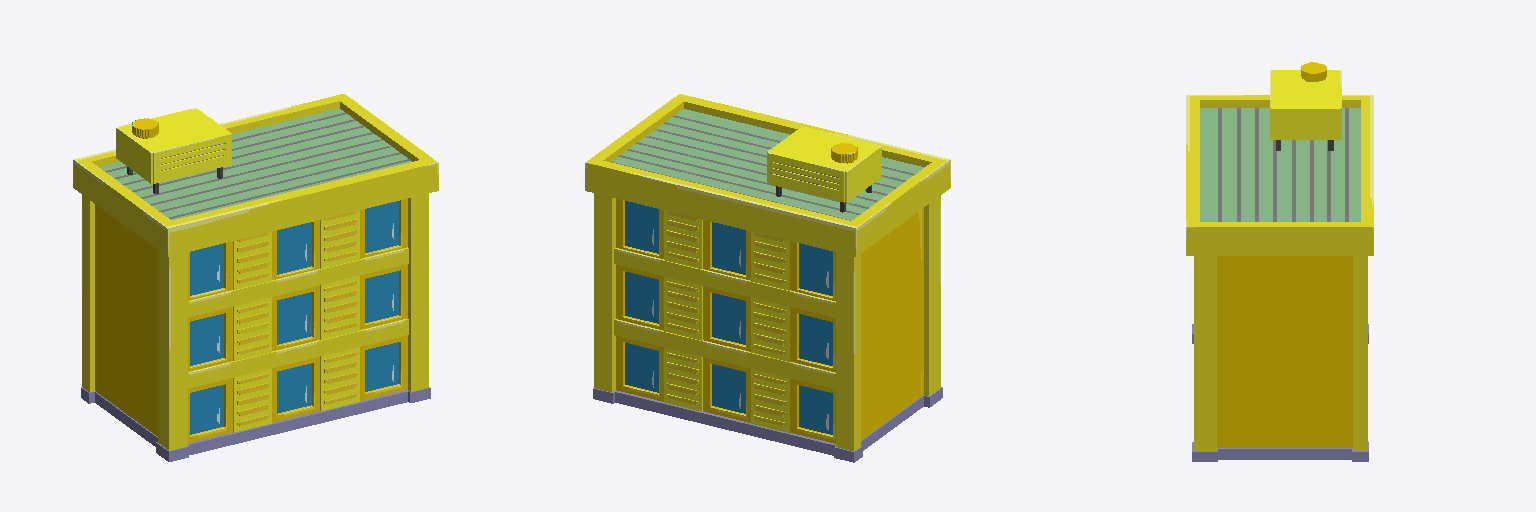
3 views of the same model, side by side, from view 1: azimuth 30°, elevation 25°; view 2: azimuth 150°, elevation 25°; view 3: azimuth 270°, elevation 25° (orthographic).
Visible parts, largest first — view 1: object 1; view 2: object 1; view 3: object 1.
Boxes of the visible parts, x1,y1,x2,y2 form: object 1: [73, 94, 438, 461]; object 1: [585, 94, 950, 462]; object 1: [1186, 62, 1373, 461].
Bounding box in the file's own units: 23.9 × 24 × 14.4.
Materials: 1 (1 with a texture image).